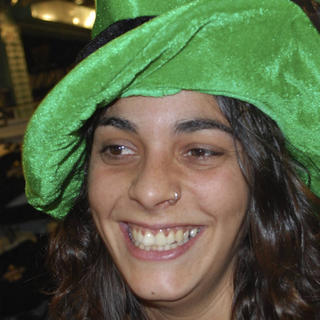eye: (176, 140, 225, 165), (99, 138, 141, 163)
